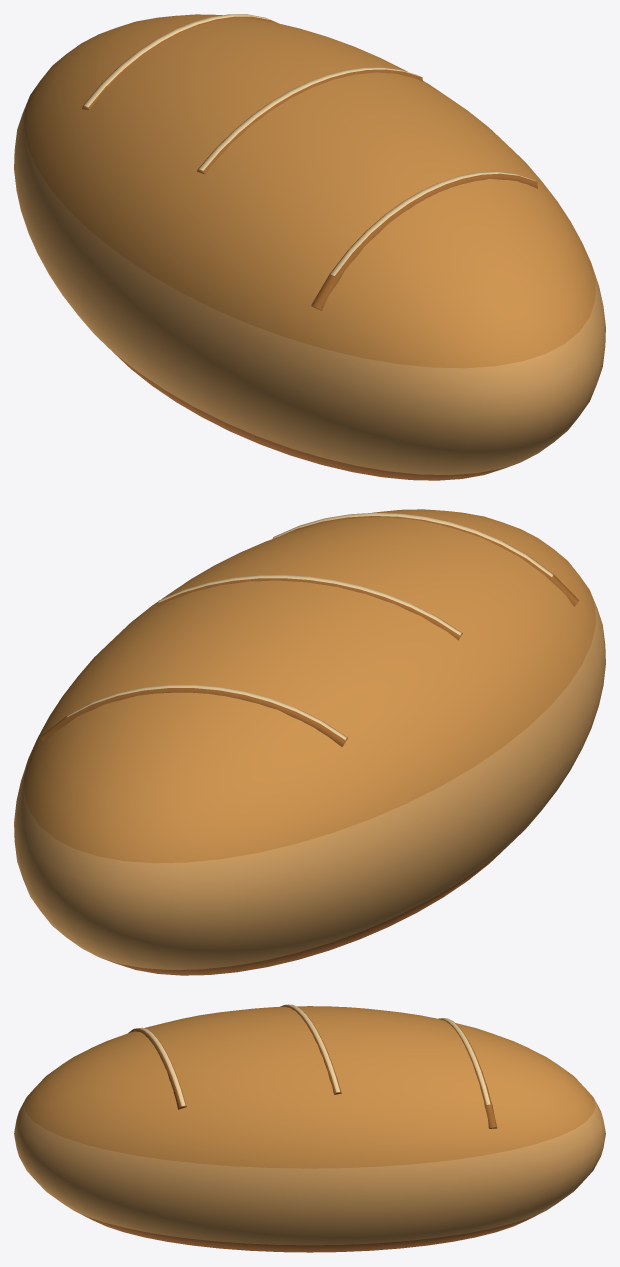
The model's file is bread_loaf.glb.
3 renders of one model, top to bottom at view 1: azimuth 30°, elevation 25°; view 2: azimuth 150°, elevation 25°; view 3: azimuth 270°, elevation 25°, orthographic. The views are drawn at different scales.
Parts seen in each view (by area): view 1: Whole rounded bread loaf, Curved baked scoring edge, Pale scored loaf surface.001, Curved baked scoring edge.001, Pale scored loaf surface, Pale scored loaf surface.002; view 2: Whole rounded bread loaf, Curved baked scoring edge.002, Curved baked scoring edge.001, Pale scored loaf surface.001, Pale scored loaf surface, Pale scored loaf surface.002, Curved baked scoring edge; view 3: Whole rounded bread loaf, Curved baked scoring edge.002, Curved baked scoring edge, Pale scored loaf surface.001, Pale scored loaf surface.002, Curved baked scoring edge.001, Pale scored loaf surface.
Boxes of the visible parts, left/top/right/bottom form: Whole rounded bread loaf: left=14, top=14, right=605, bottom=480; Curved baked scoring edge: left=311, top=173, right=537, bottom=310; Pale scored loaf surface.001: left=199, top=67, right=420, bottom=170; Curved baked scoring edge.001: left=197, top=69, right=422, bottom=174; Pale scored loaf surface: left=330, top=171, right=535, bottom=275; Pale scored loaf surface.002: left=84, top=14, right=278, bottom=107; Whole rounded bread loaf: left=14, top=509, right=605, bottom=975; Curved baked scoring edge.002: left=40, top=688, right=347, bottom=746; Curved baked scoring edge.001: left=157, top=578, right=462, bottom=640; Pale scored loaf surface.001: left=158, top=575, right=461, bottom=635; Pale scored loaf surface: left=273, top=512, right=552, bottom=576; Pale scored loaf surface.002: left=66, top=685, right=346, bottom=739; Curved baked scoring edge: left=272, top=516, right=578, bottom=606; Whole rounded bread loaf: left=14, top=1006, right=605, bottom=1252; Curved baked scoring edge.002: left=438, top=1018, right=497, bottom=1128; Curved baked scoring edge: left=128, top=1028, right=186, bottom=1109; Pale scored loaf surface.001: left=284, top=1004, right=340, bottom=1092; Pale scored loaf surface.002: left=439, top=1018, right=490, bottom=1104; Curved baked scoring edge.001: left=280, top=1005, right=341, bottom=1094; Pale scored loaf surface: left=134, top=1027, right=185, bottom=1105.
Bounding box in the file's own units: 0.23 × 0.1463 × 0.44.
